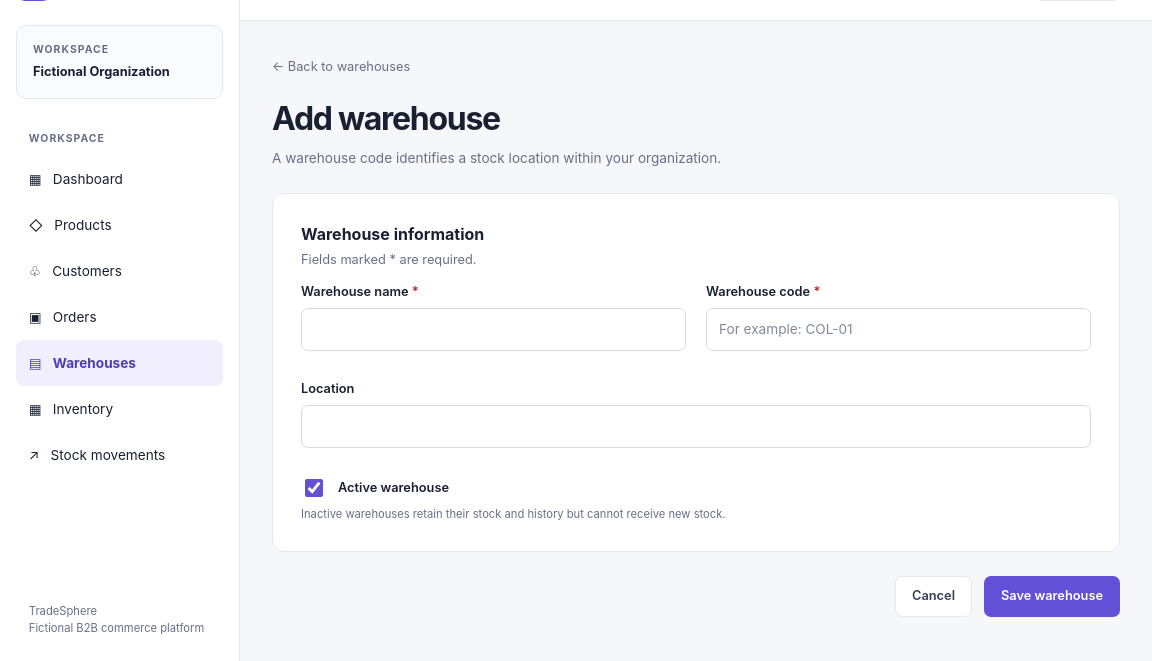
Test case: warehouse and inventory interactions › links server warehouse field errors to the actual inputs
The image size is (1152, 661).
Type "Test warehouse" into the field labelled "Warehouse name *" at (494, 330), box 301,308 -> 686,351
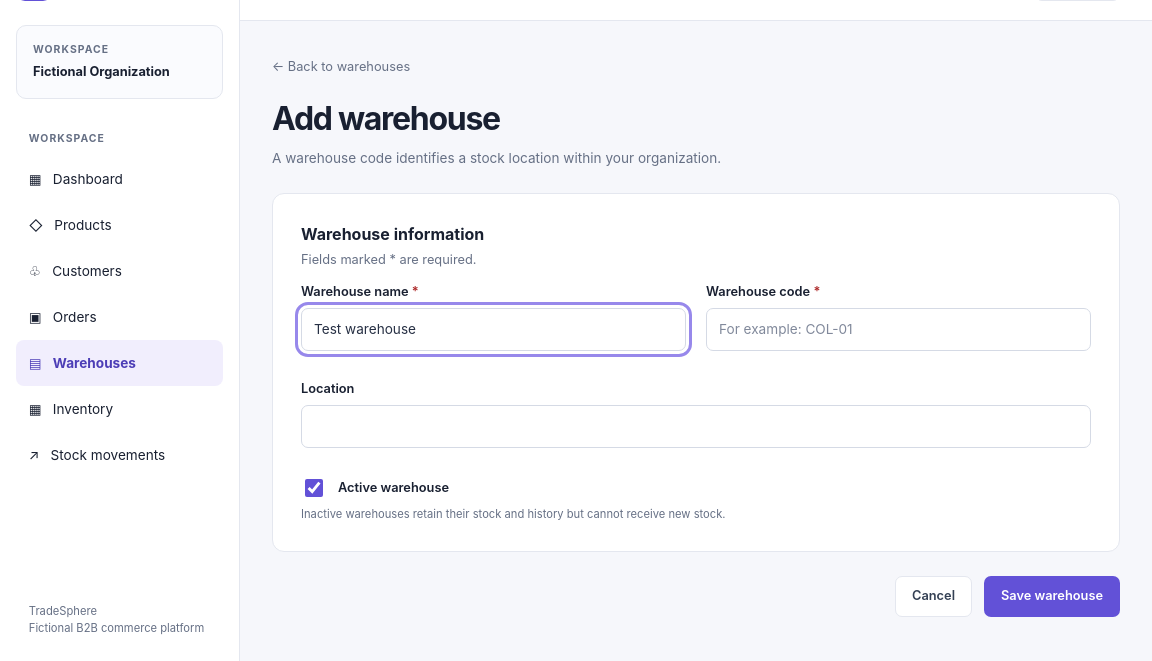
Type "COL-01" into the field labelled "Warehouse code *" at (898, 330), box 706,308 -> 1091,351
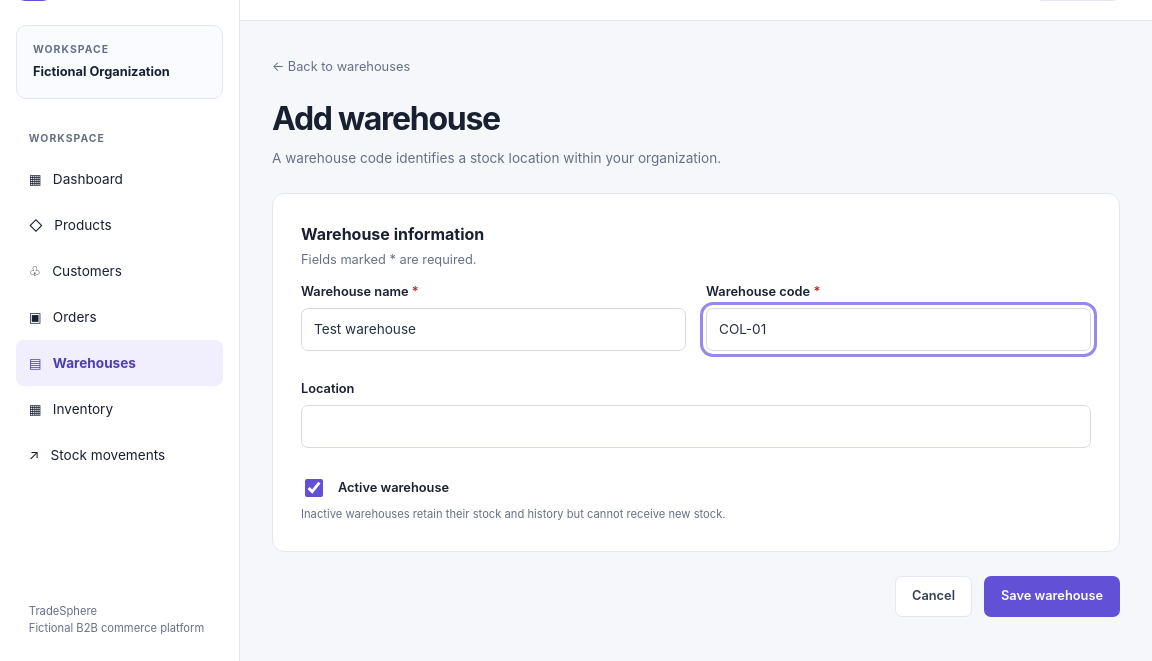
Click the button "Save warehouse" at (1052, 596), box 984,576 -> 1120,617
(page scrolled)
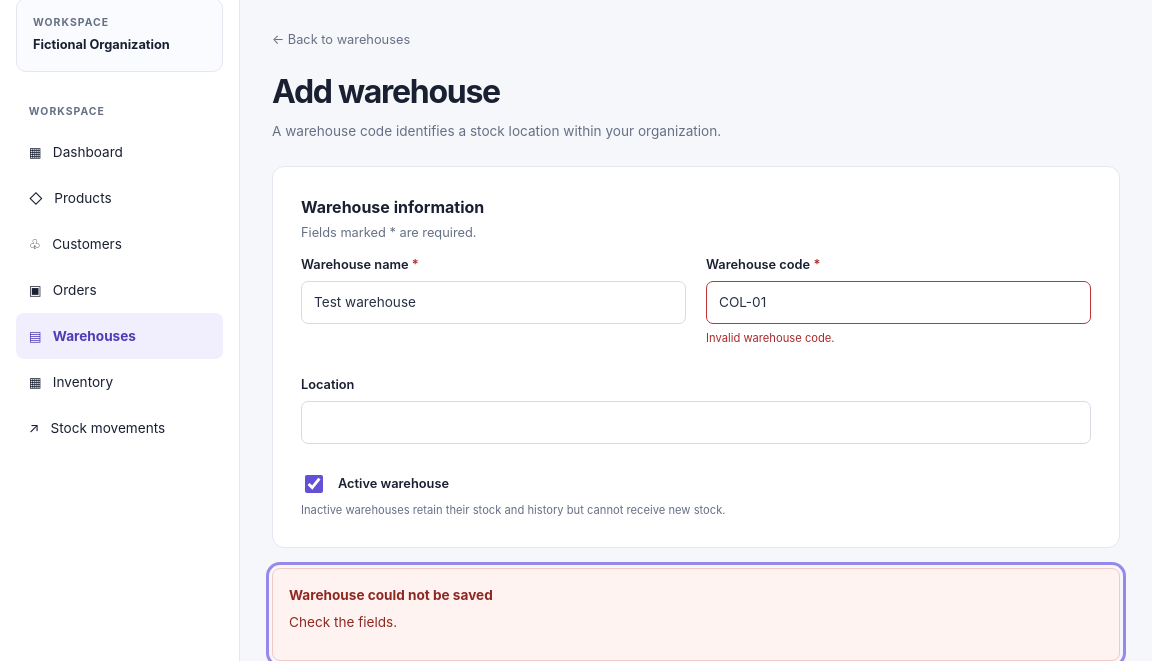
Check: the text "Invalid warehouse code." is shown, box 706,332 -> 835,346
